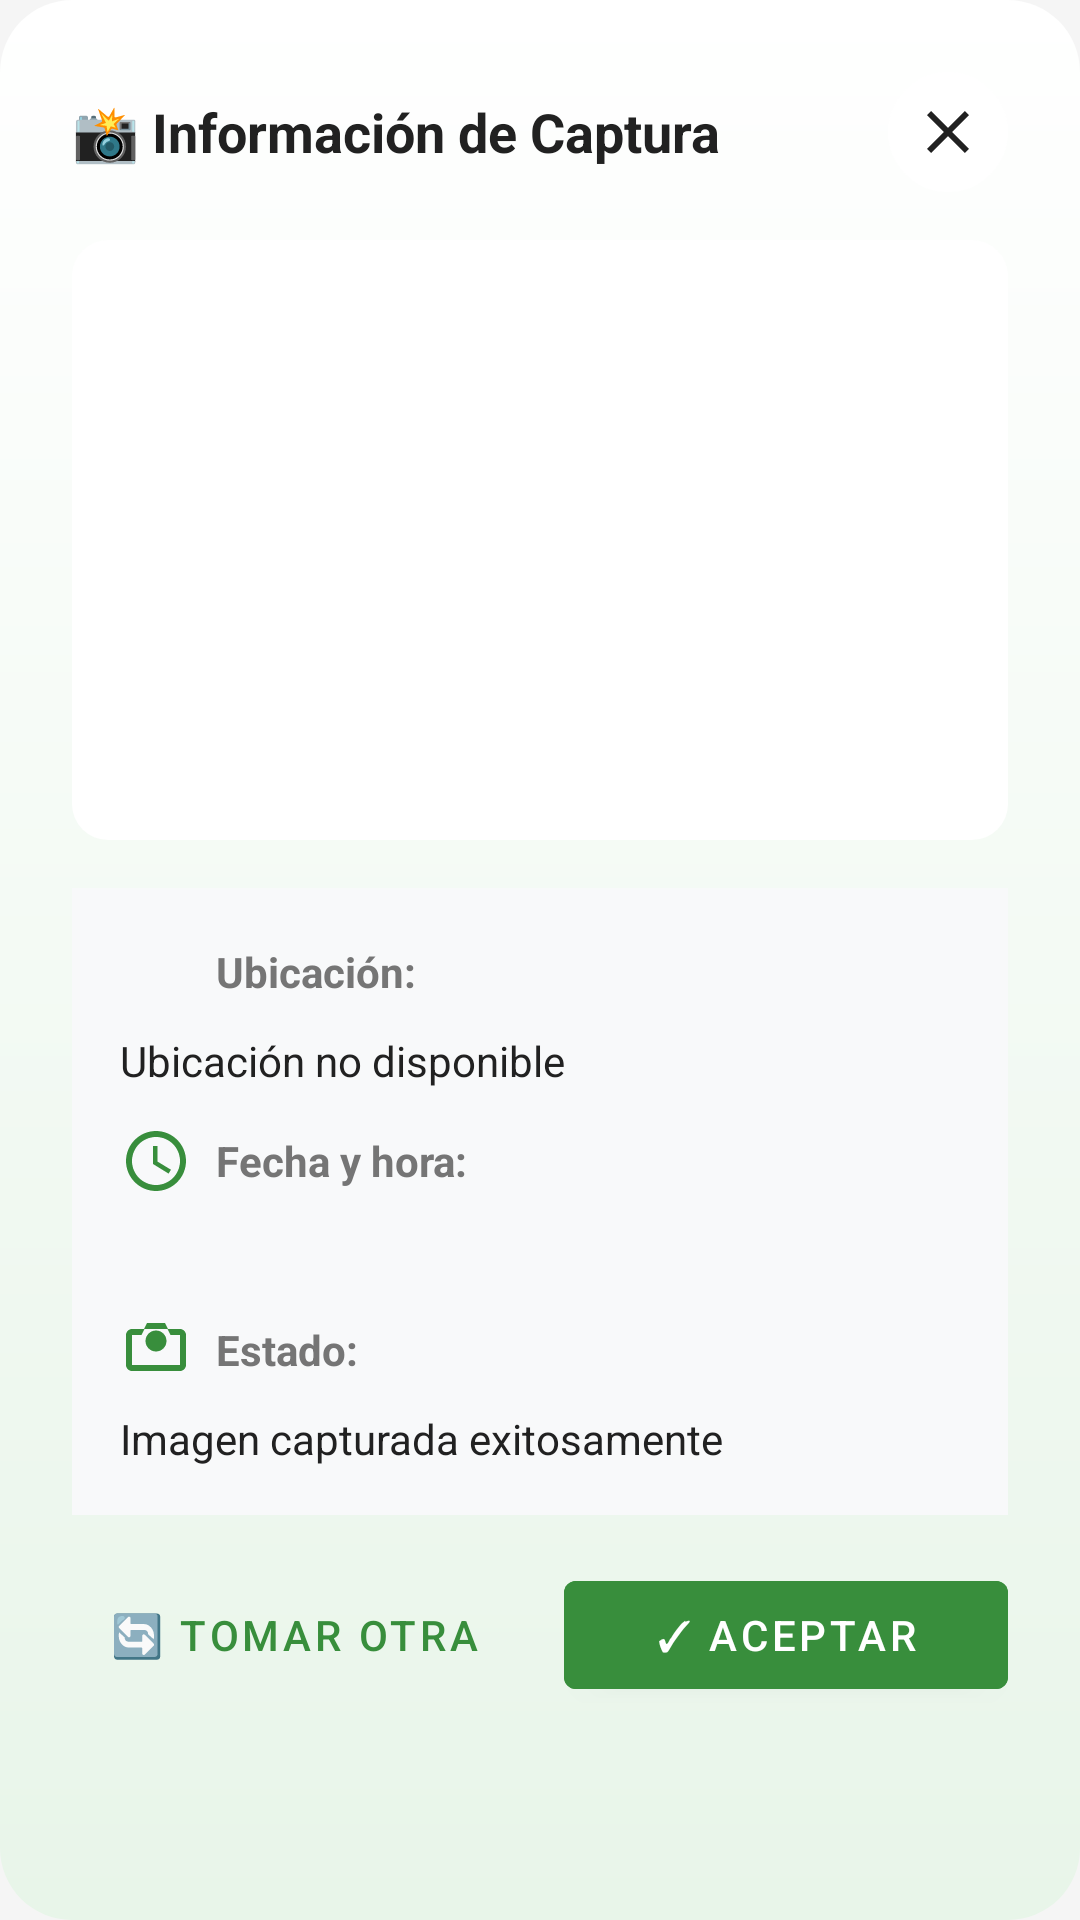

Where icons sit on this 1080 x 1920 app screen, as (x1, y1, x2, y2):
camera: (126, 1323, 186, 1371)
Cerrar: (927, 111, 969, 153)
time: (126, 1131, 186, 1191)
